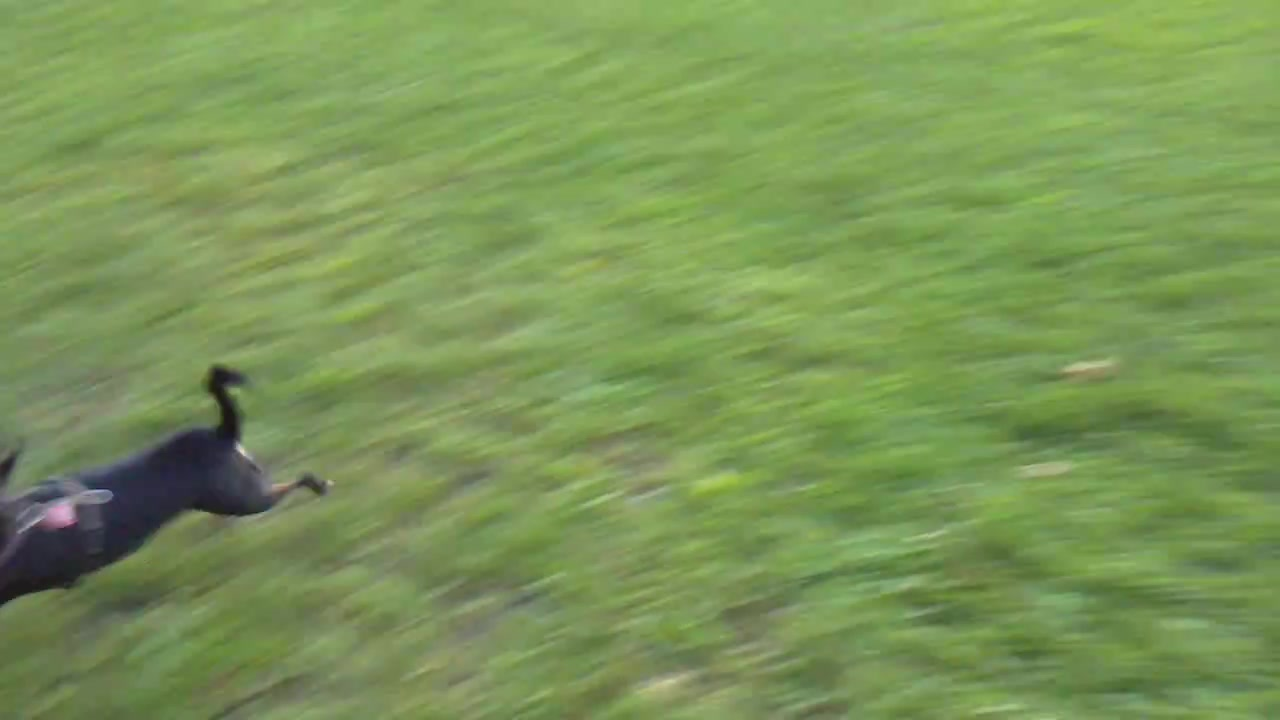dog: (1, 364, 335, 612)
